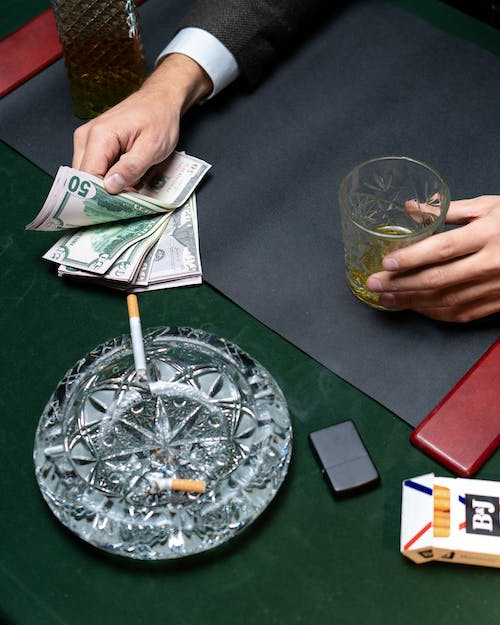alcohol: (337, 152, 454, 316)
cigarette: (397, 470, 500, 572), (122, 287, 149, 382), (144, 469, 206, 495)
